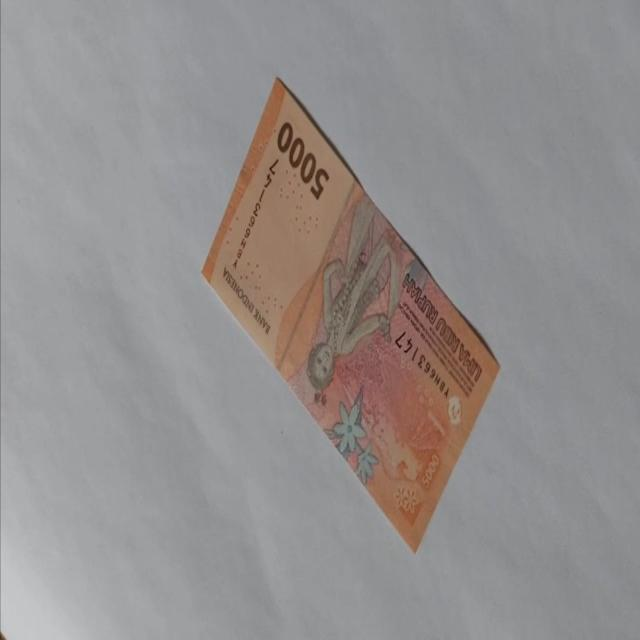lima ribu rupiah: (200, 76, 502, 554)
